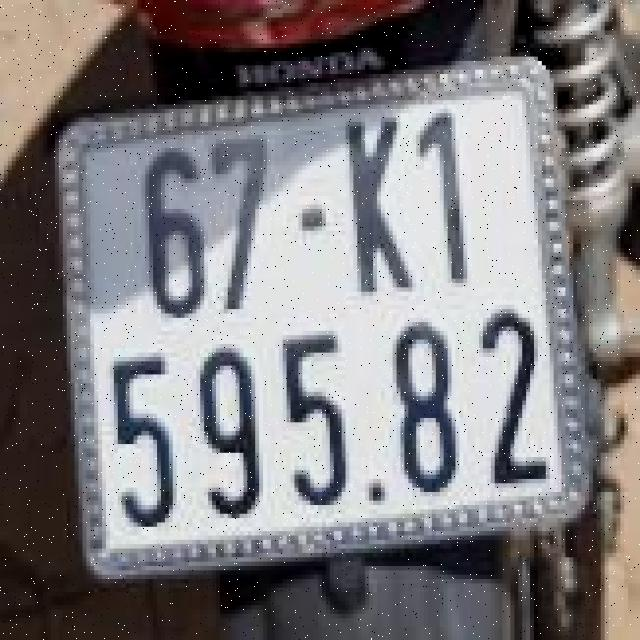1: (418, 98, 473, 289)
2: (483, 303, 554, 494)
5: (98, 333, 185, 529), (267, 316, 346, 520)
6: (124, 133, 210, 320)
7: (206, 115, 265, 316)
8: (383, 307, 465, 503)
9: (188, 333, 267, 533)
K: (320, 98, 402, 303)
